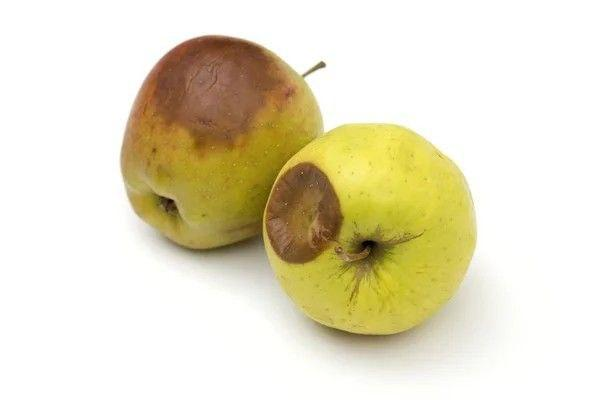Apple: (79, 2, 332, 270), (265, 124, 476, 334)
